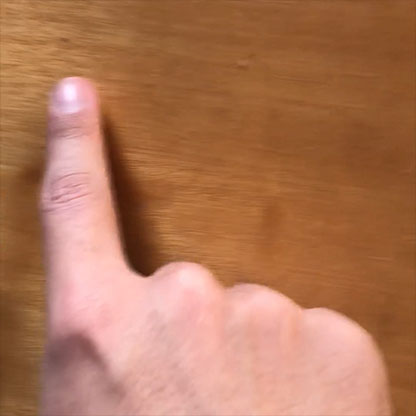fingertip: (42, 72, 104, 123)
